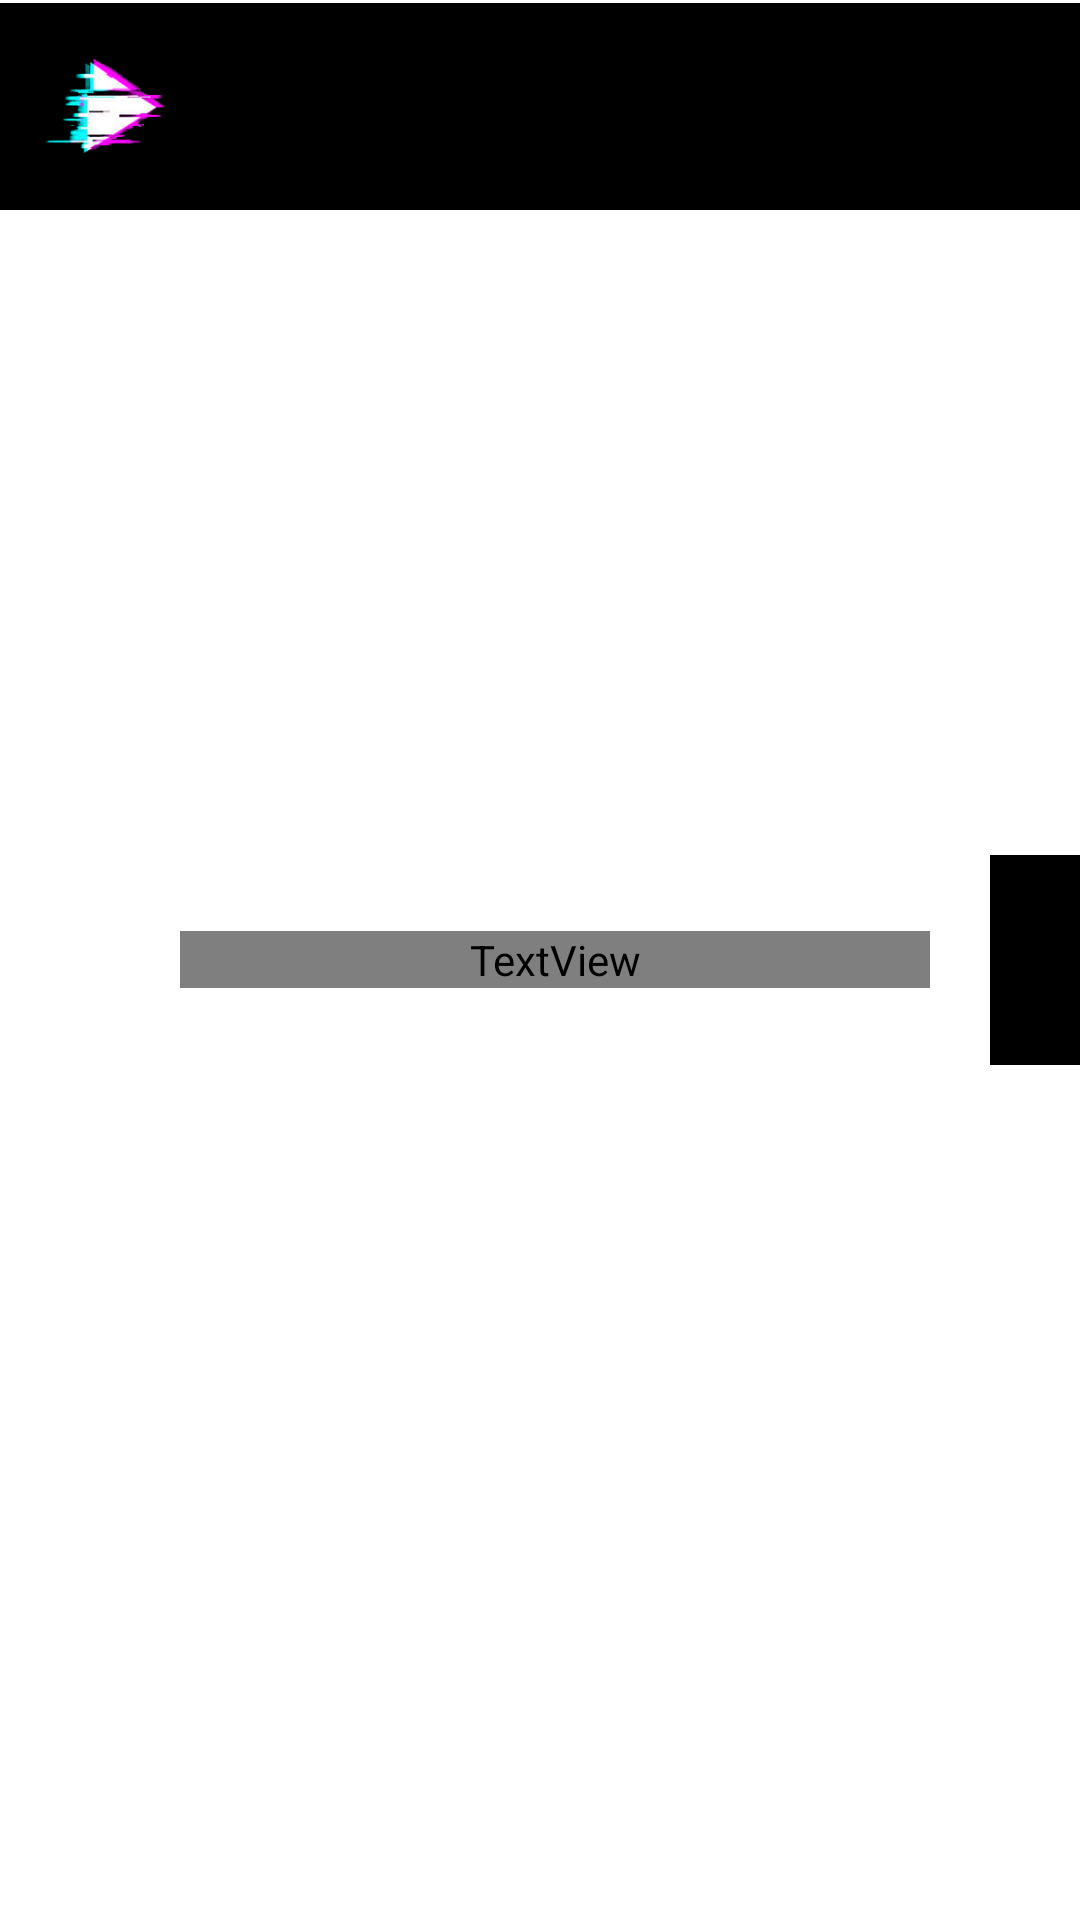

Icons on this 1080 × 1920 Android screen, each with the point to tap as (x,y):
play: (105,105)
